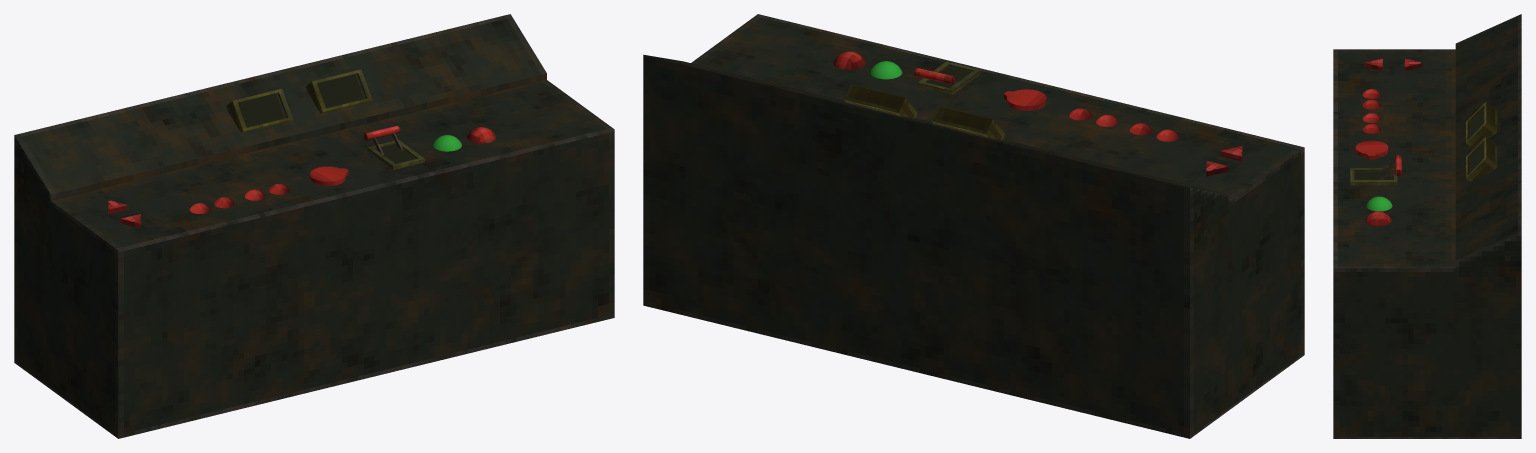
Rendered from MOD_Commandes.fbx.
3 views of the same model, side by side, from view 1: azimuth 30°, elevation 25°; view 2: azimuth 150°, elevation 25°; view 3: azimuth 270°, elevation 25° (orthographic). The views are drawn at different scales.
Visible parts, largest first — view 1: MOD_Commandes6; view 2: MOD_Commandes6; view 3: MOD_Commandes6.
Part boxes in pixels (x1=…): MOD_Commandes6: x1=14, y1=14, x2=614, y2=438; MOD_Commandes6: x1=643, y1=14, x2=1304, y2=438; MOD_Commandes6: x1=1333, y1=14, x2=1521, y2=438.
Size of the model in its own units: 275 by 121 by 100.
